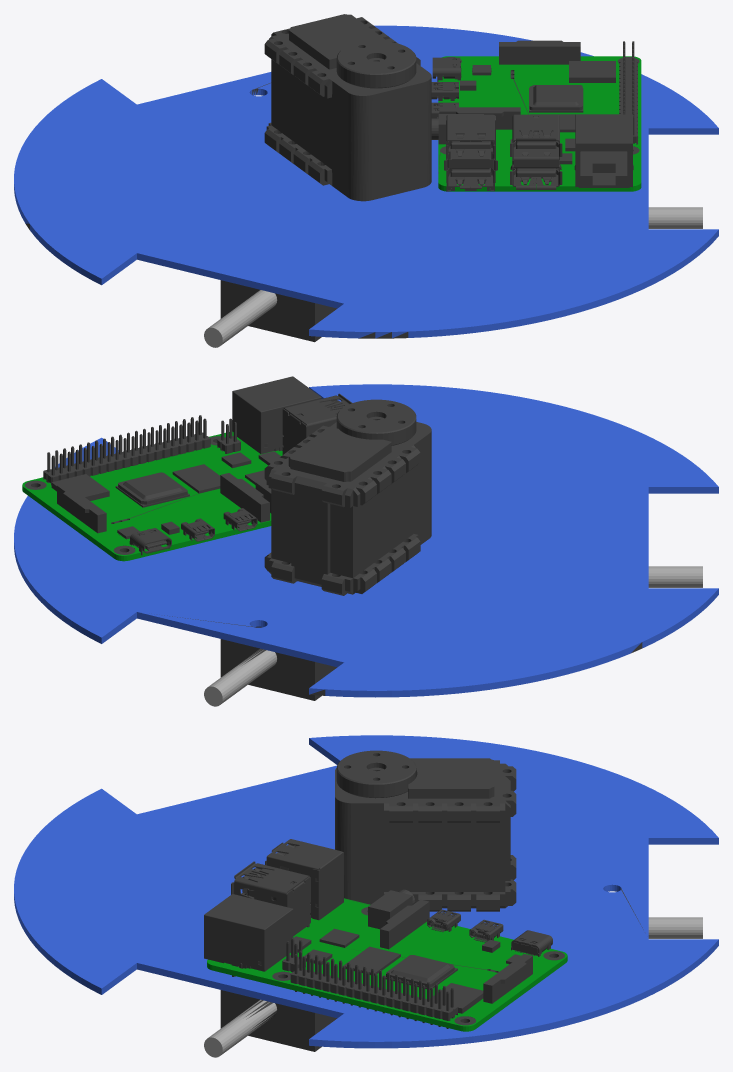
File: omni_wheel_body_old.dae
The picture shows the model from 3 angles, top to bottom: view 1: azimuth 30°, elevation 25°; view 2: azimuth 150°, elevation 25°; view 3: azimuth 270°, elevation 25°; orthographic projection.
Visible parts, largest first — view 1: Omni Frame Assy For Model; view 2: Omni Frame Assy For Model; view 3: Omni Frame Assy For Model.
Boxes of the visible parts, bbox=[...] form: Omni Frame Assy For Model: bbox=[14, 14, 718, 347]; Omni Frame Assy For Model: bbox=[14, 376, 718, 706]; Omni Frame Assy For Model: bbox=[14, 735, 718, 1057].
Bounding box in the file's own units: 0.2 × 0.1944 × 0.059.
